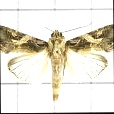Spodoptera litura: (0, 18, 113, 102)
